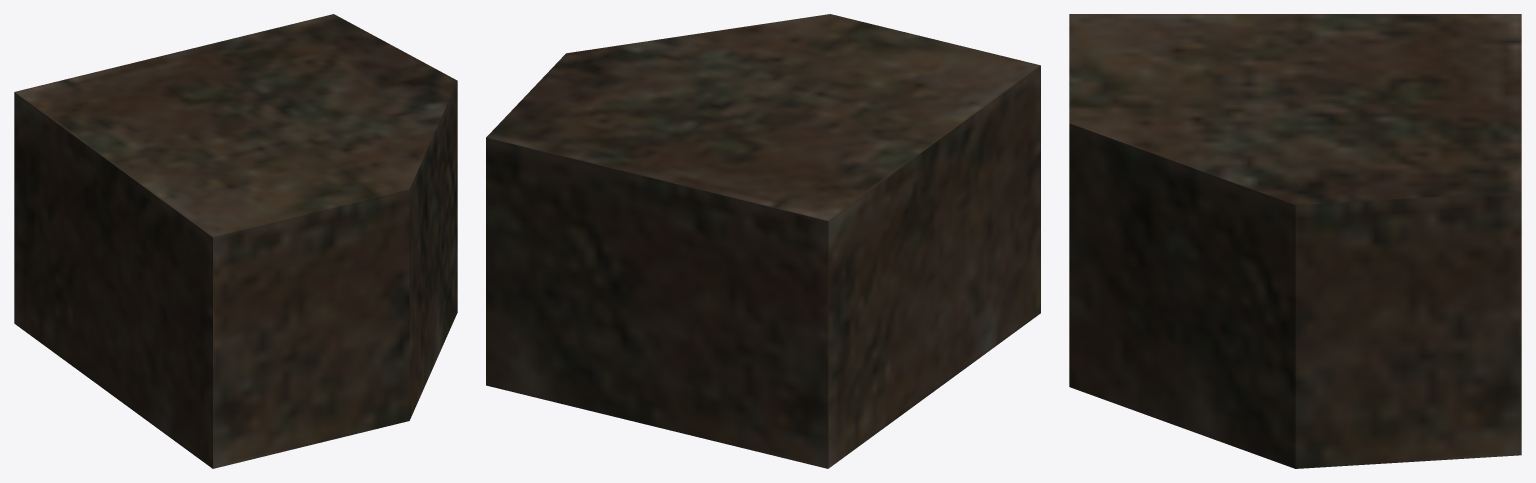
File: brick_mx_2_2.dae
3 renders of one model, left to right at view 1: azimuth 30°, elevation 25°; view 2: azimuth 150°, elevation 25°; view 3: azimuth 270°, elevation 25°, orthographic. The views are drawn at different scales.
Parts seen in each view (by area): view 1: brick_mx_2_2; view 2: brick_mx_2_2; view 3: brick_mx_2_2.
Part boxes in pixels (<box>): brick_mx_2_2: <box>14,14,457,468</box>; brick_mx_2_2: <box>486,14,1040,468</box>; brick_mx_2_2: <box>1069,14,1521,468</box>.
Size of the model in its own units: 0.14 by 0.14 by 0.09.
Materials: 1 (1 with a texture image).
